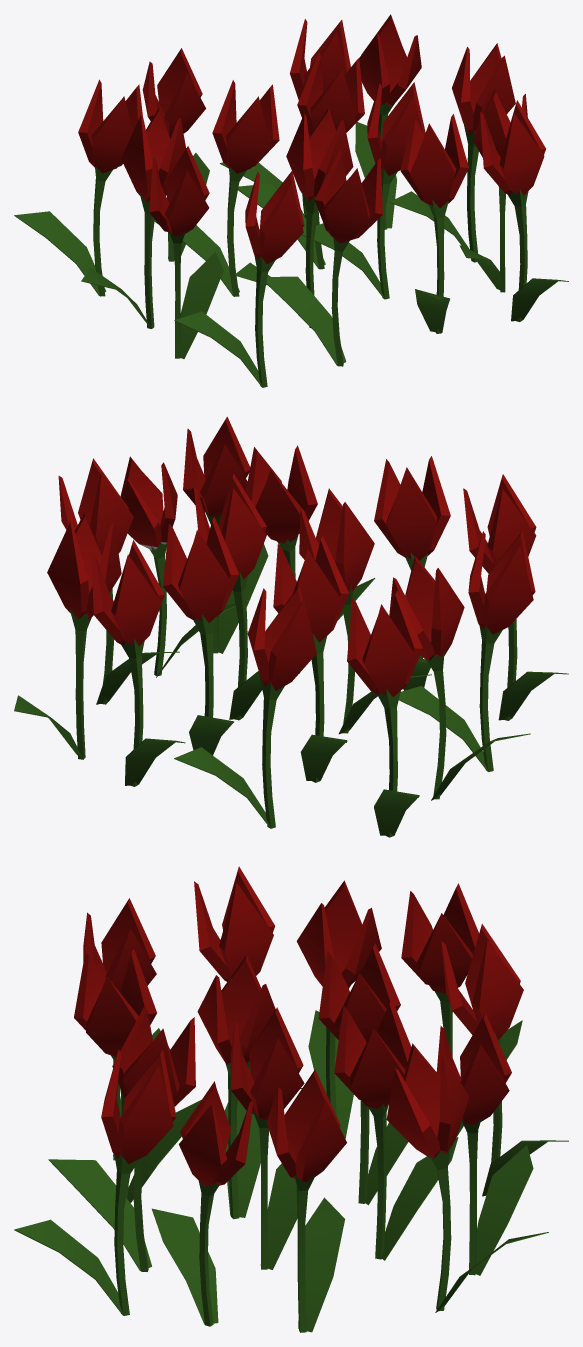
3 views of the same model, one above another, from view 1: azimuth 30°, elevation 25°; view 2: azimuth 150°, elevation 25°; view 3: azimuth 270°, elevation 25° (orthographic). The views are drawn at different scales.
Visible parts, largest first — view 1: Object006; view 2: Object006; view 3: Object006.
Part boxes in pixels (x1,y1,x2,y2): Object006: [14, 14, 568, 387]; Object006: [14, 416, 568, 837]; Object006: [14, 866, 568, 1332].
Bounding box in the file's own units: 240 × 114 × 220.
